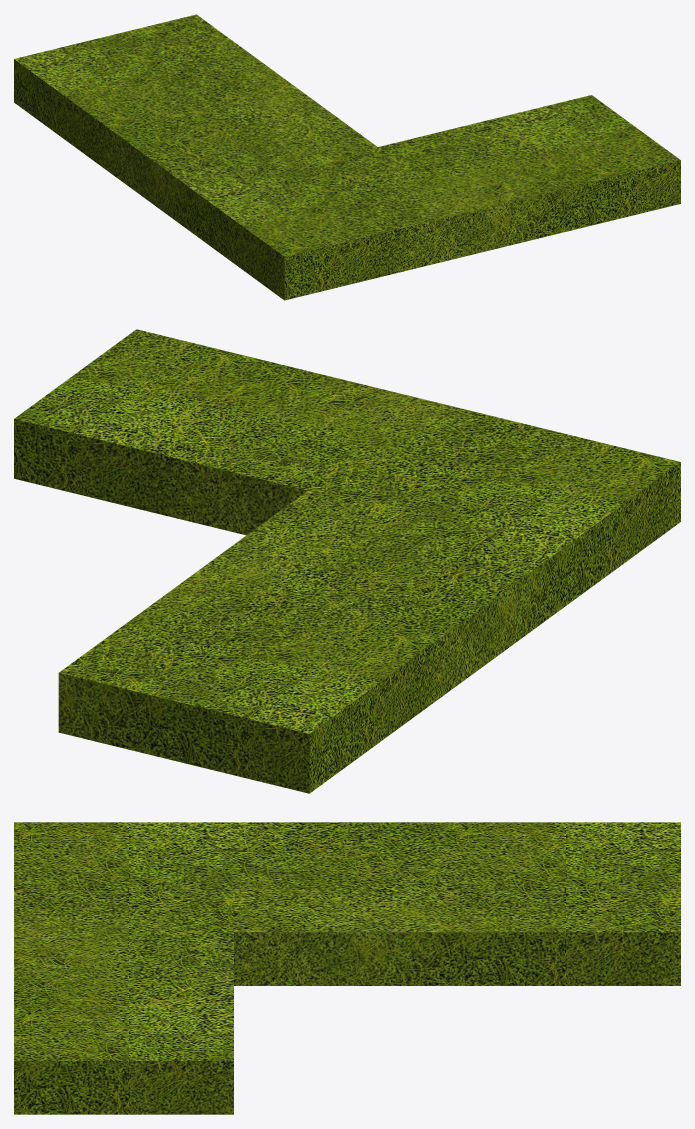
The model's file is Platform_L_Lowland.FBX.
The picture shows the model from 3 angles, top to bottom: view 1: azimuth 30°, elevation 25°; view 2: azimuth 150°, elevation 25°; view 3: azimuth 270°, elevation 25°; orthographic projection. The views are drawn at different scales.
Visible parts, largest first — view 1: Platform_L; view 2: Platform_L; view 3: Platform_L.
Boxes of the visible parts, <box> form: Platform_L: <box>14,14,680,300</box>; Platform_L: <box>14,329,680,793</box>; Platform_L: <box>14,822,680,1114</box>.
Bounding box in the file's own units: 1678 × 176 × 1984.
